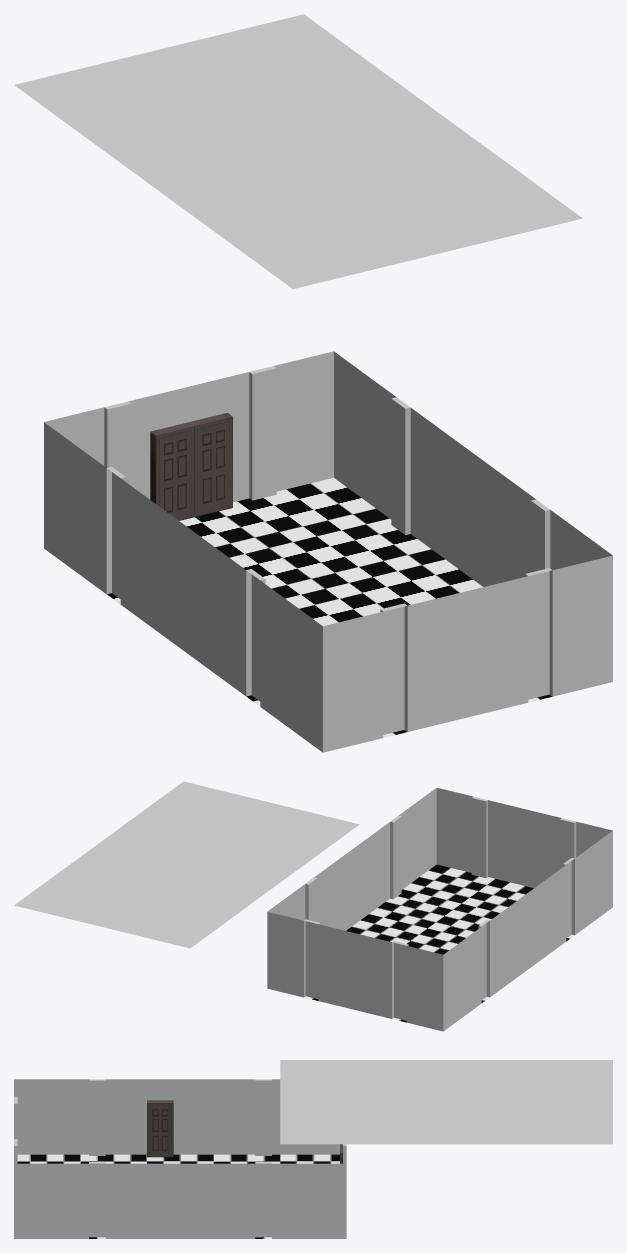
File: Clock-Room.fbx
3 renders of one model, top to bottom at view 1: azimuth 30°, elevation 25°; view 2: azimuth 150°, elevation 25°; view 3: azimuth 270°, elevation 25°, orthographic. The views are drawn at different scales.
Visible parts, largest first — view 1: Walls.013, Roof.001, Woods.014, Floor.001, Door1; view 2: Walls.013, Roof.001, Woods.014, Floor.001; view 3: Walls.013, Roof.001, Woods.014, Floor.001, Door2.002.
Boxes of the visible parts, x1,y1,x2,y2 form: Walls.013: [44, 351, 612, 710]; Roof.001: [14, 14, 582, 288]; Woods.014: [44, 436, 612, 752]; Floor.001: [107, 478, 552, 737]; Door1: [150, 413, 232, 520]; Walls.013: [267, 787, 612, 1006]; Roof.001: [14, 781, 359, 948]; Woods.014: [267, 839, 612, 1031]; Floor.001: [304, 864, 574, 1022]; Walls.013: [14, 1079, 346, 1214]; Roof.001: [280, 1060, 612, 1144]; Woods.014: [14, 1129, 346, 1238]; Floor.001: [17, 1154, 339, 1238]; Door2.002: [147, 1100, 173, 1157].
Size of the model in its own units: 1000 by 500 by 1800.
